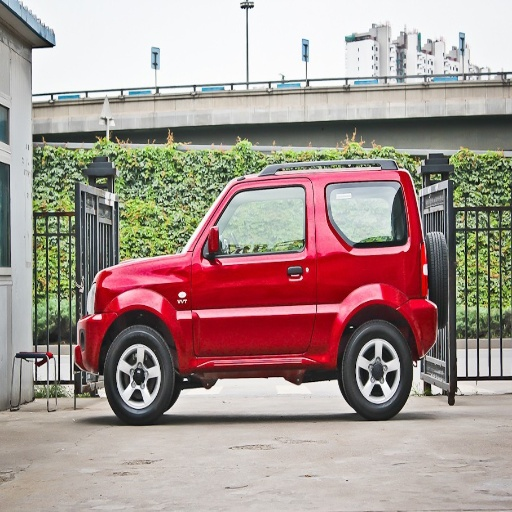back_glass: (361, 184, 400, 243)
trunk: (315, 260, 406, 357)
